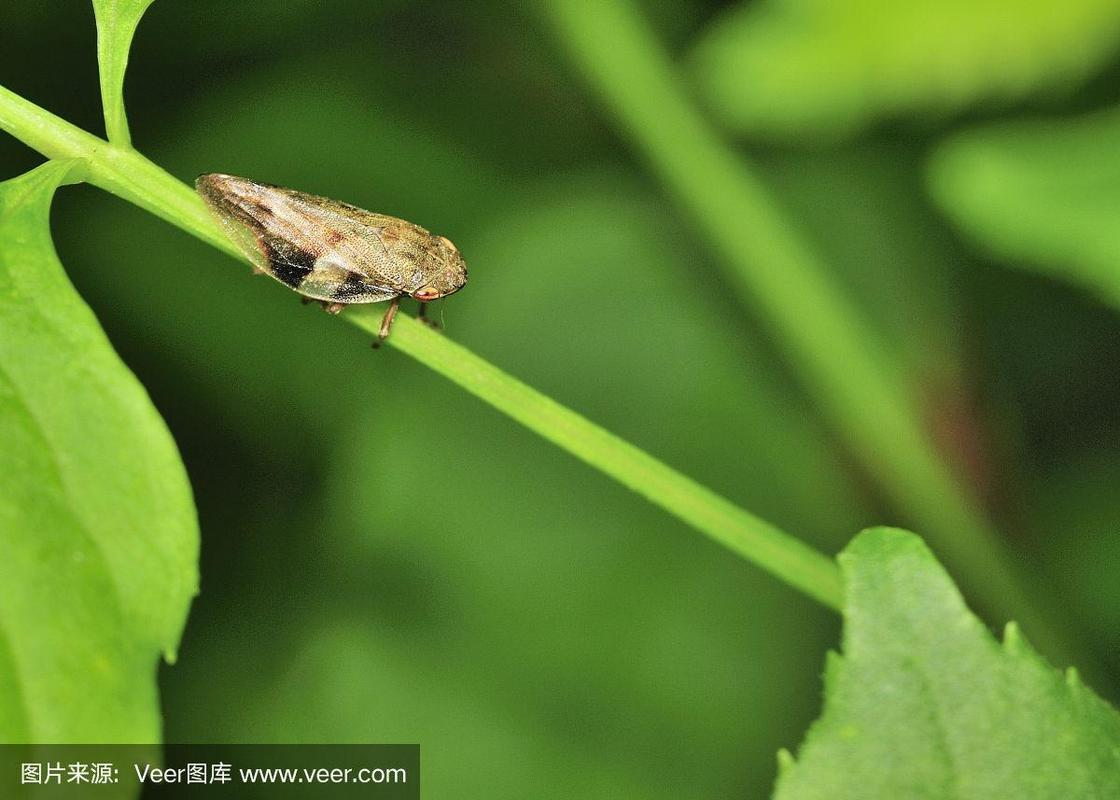Cicadellidae: (194, 167, 470, 317)
